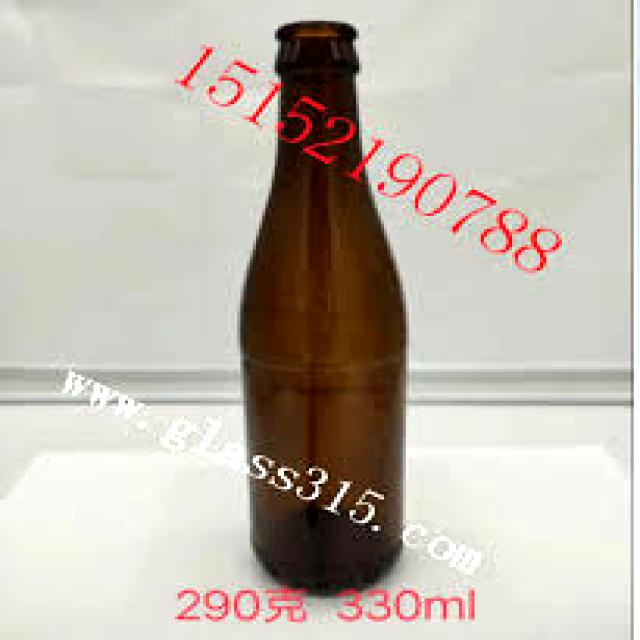Glass: (238, 16, 418, 601)
